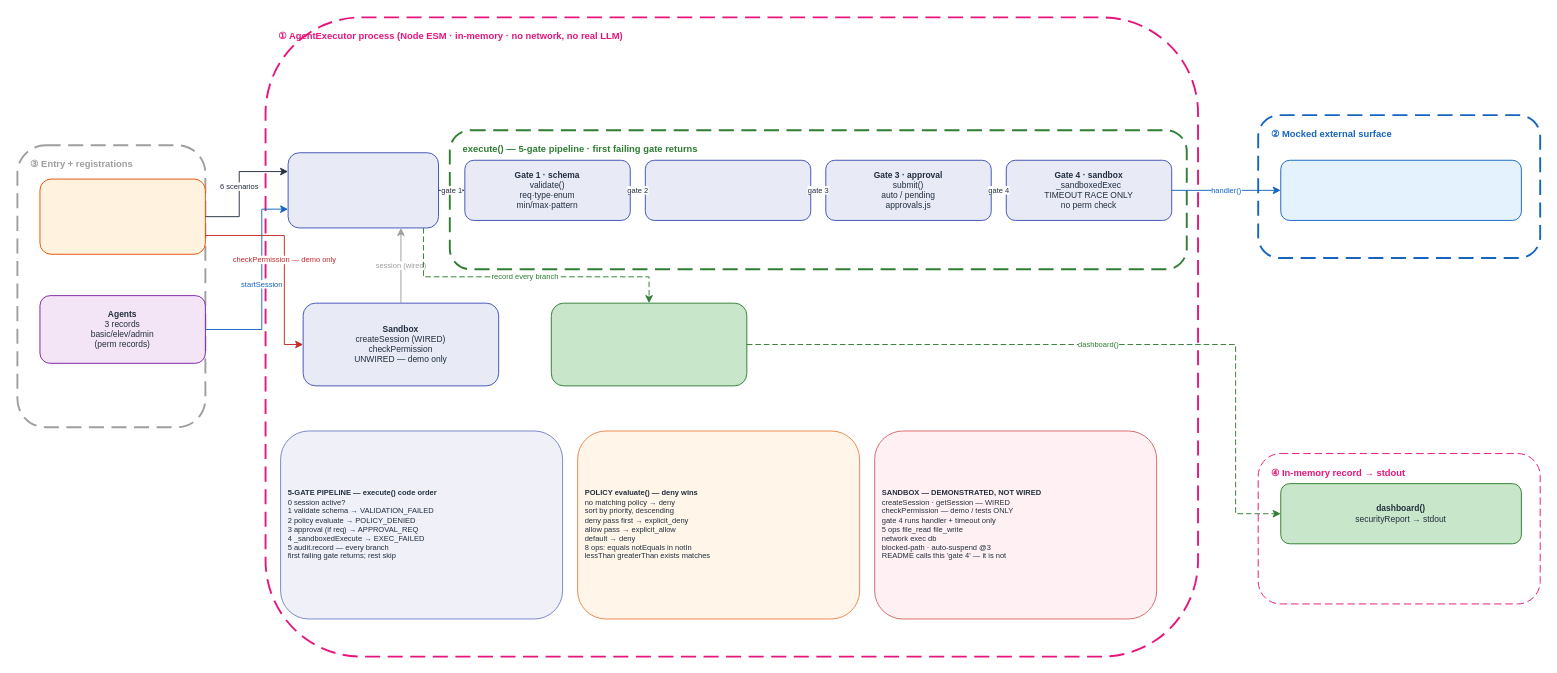
Some shapes in this 1557 by 673 pixel diagram are drawn without their labels. The shapes that lost their labels are listed below. From the top down, each one's box as (x1, y1, x2, y2) in pixels, then its label:
(287, 152, 439, 228): AgentExecutor .execute() guards audit each branch
(644, 159, 811, 220): Gate 2 · policy evaluate() IAM deny-wins policy.js
(1280, 159, 1521, 220): action.handler(s) demo.js · MOCKED canned data — no real DB/API/FS
(39, 178, 205, 254): demo.js 6 actions · 4 policies 3 agents · 6 scenarios
(550, 302, 747, 386): AuditTrail.record in-memory ring allowed/denied/error
